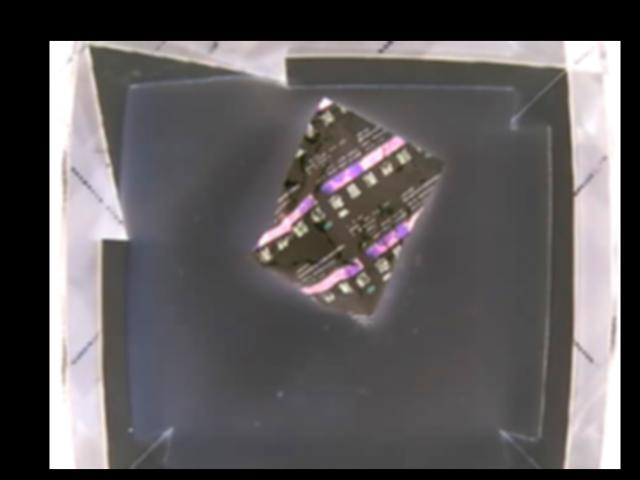Medicine: (252, 96, 446, 320)
